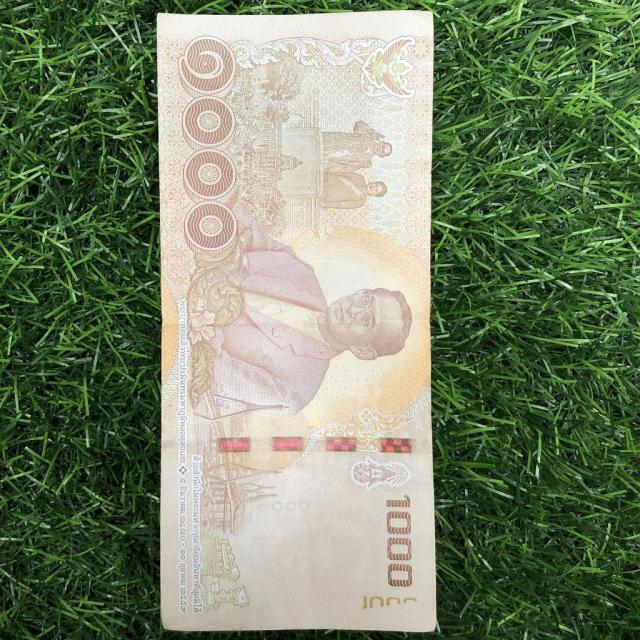THAI1000: (156, 11, 439, 636)
